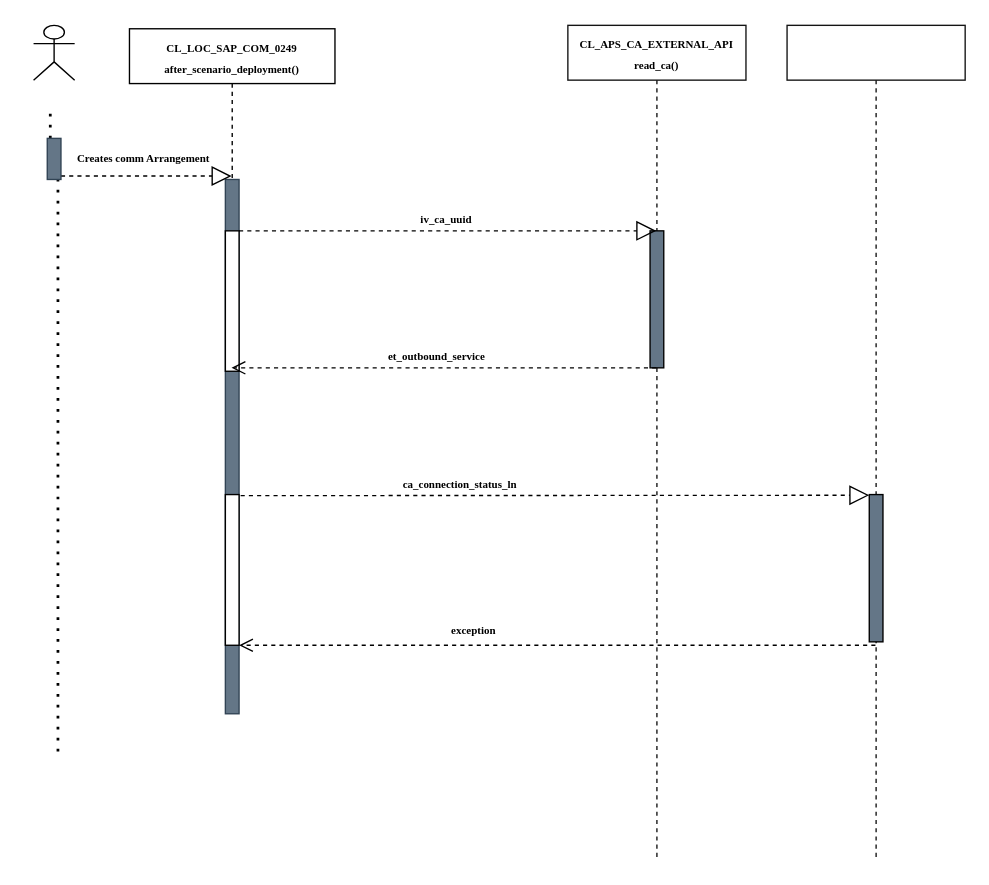
The diagram is 989 pixels wide and 885 high, and some of its shapes have lost their labels. The shapes that lost their labels are listed below. From the top down, each one's box as (x1, y1, x2, y2) in pixels, then its label:
(32, 24, 75, 80): Partners
(786, 24, 965, 861): TXS_CA_CONN_STATUS_DA modify_ca _connection_status()
